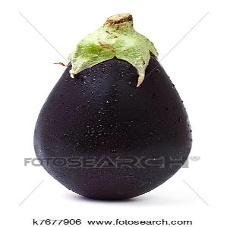eggplant: (32, 41, 192, 198)
